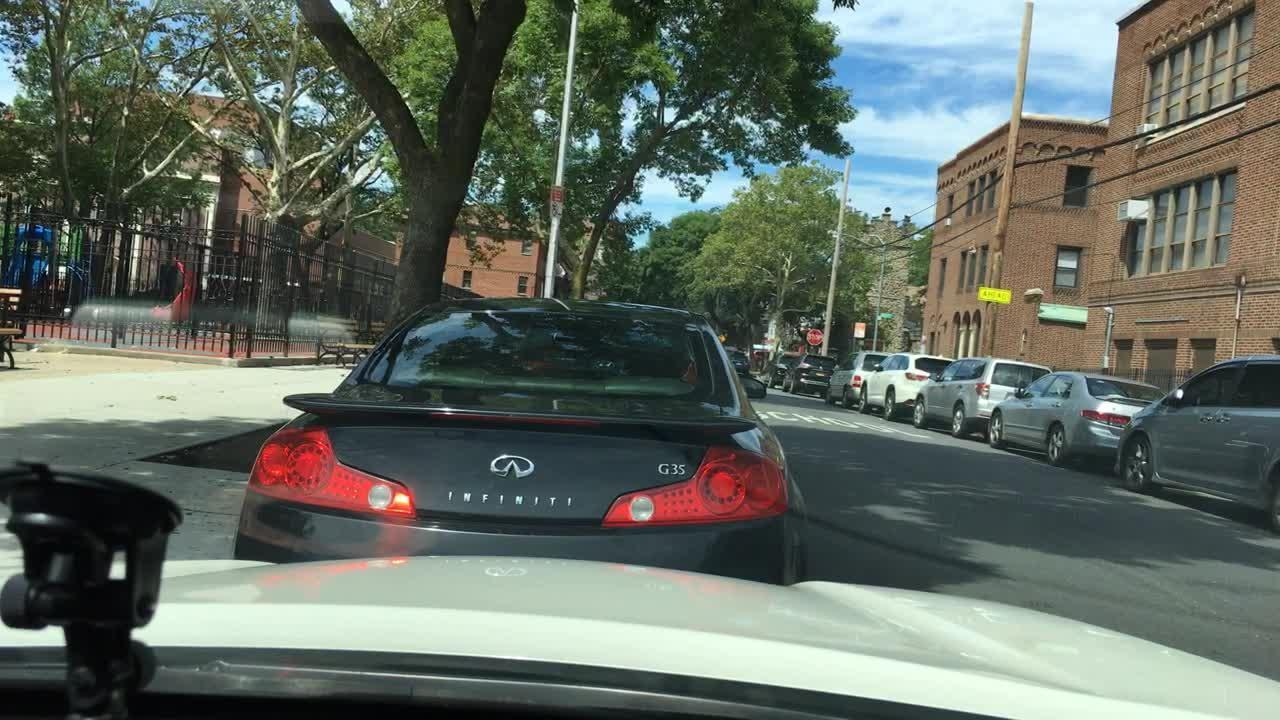Infiniti: (476, 433, 562, 487)
